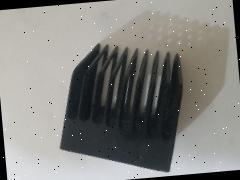plastic: (50, 35, 190, 180)
